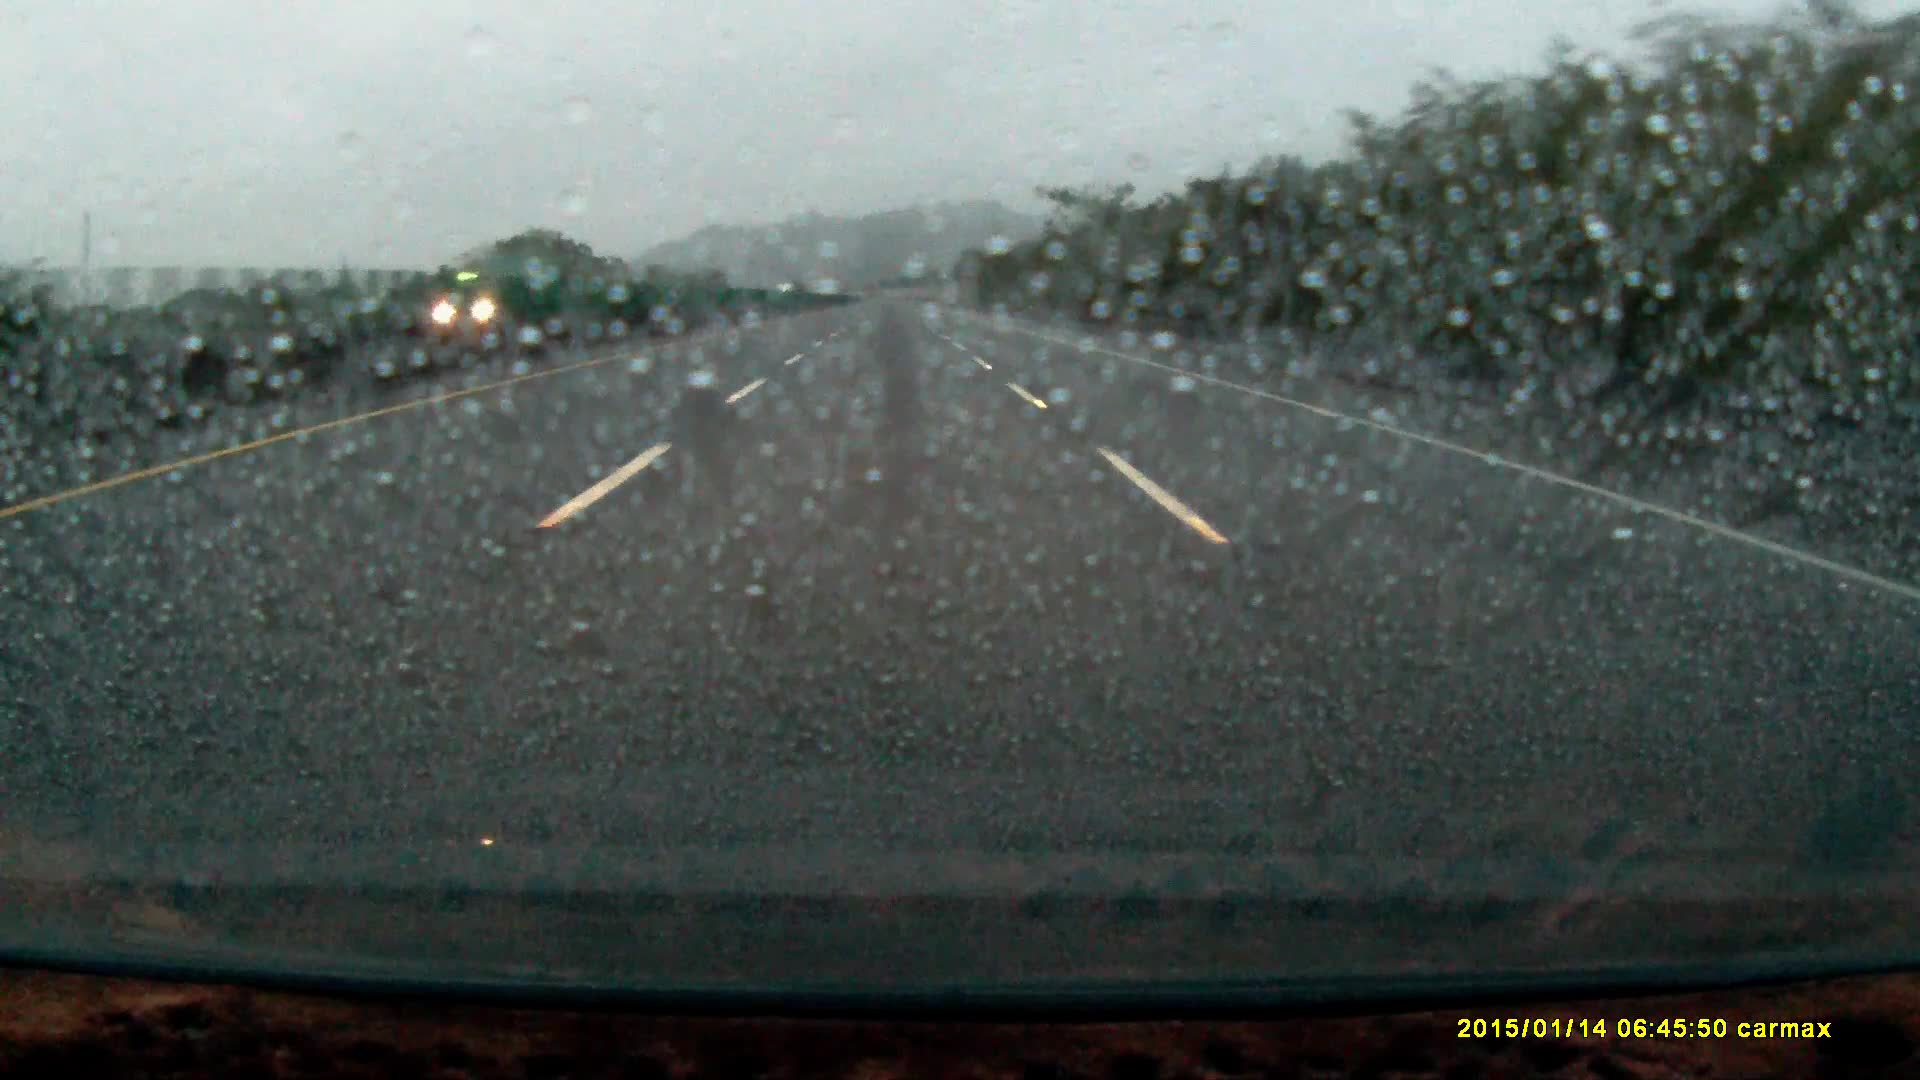vehicle: (433, 258, 562, 338)
